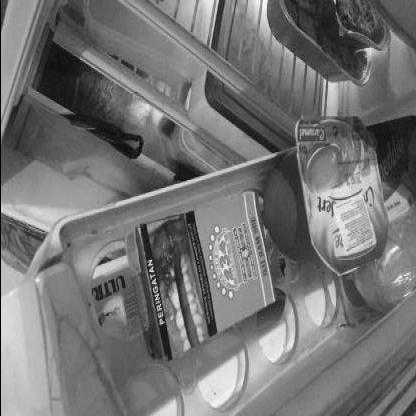objects: (124, 192, 274, 361)
